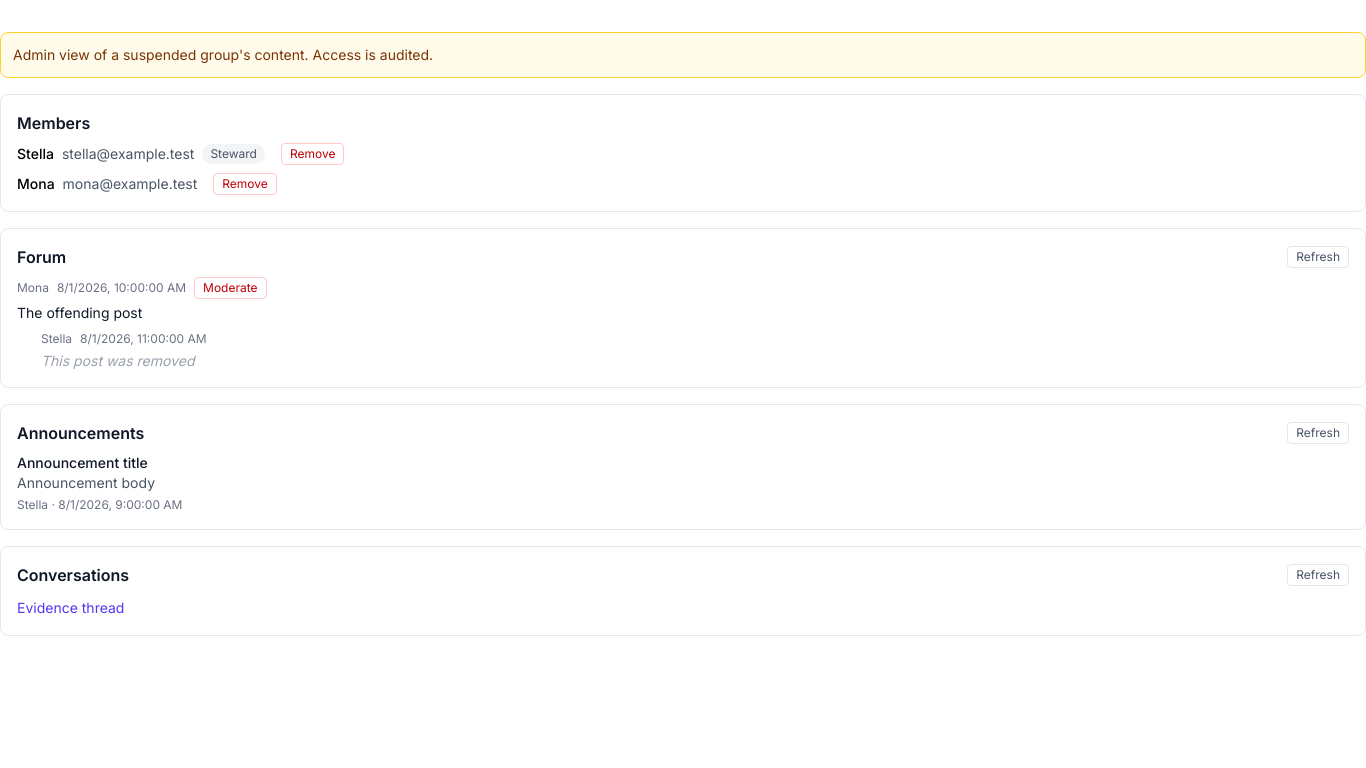
AdminSuspendedContentWing (FEAT-H041) › the Remove ceremony echoes display name AND email AND the group name, states the consequence, and requires a reason before confirm
Click the button with test id "remove-member-bbbb2222-2222-4222-8222-222222222222".
click(245, 184)  # box [213,173,277,195]
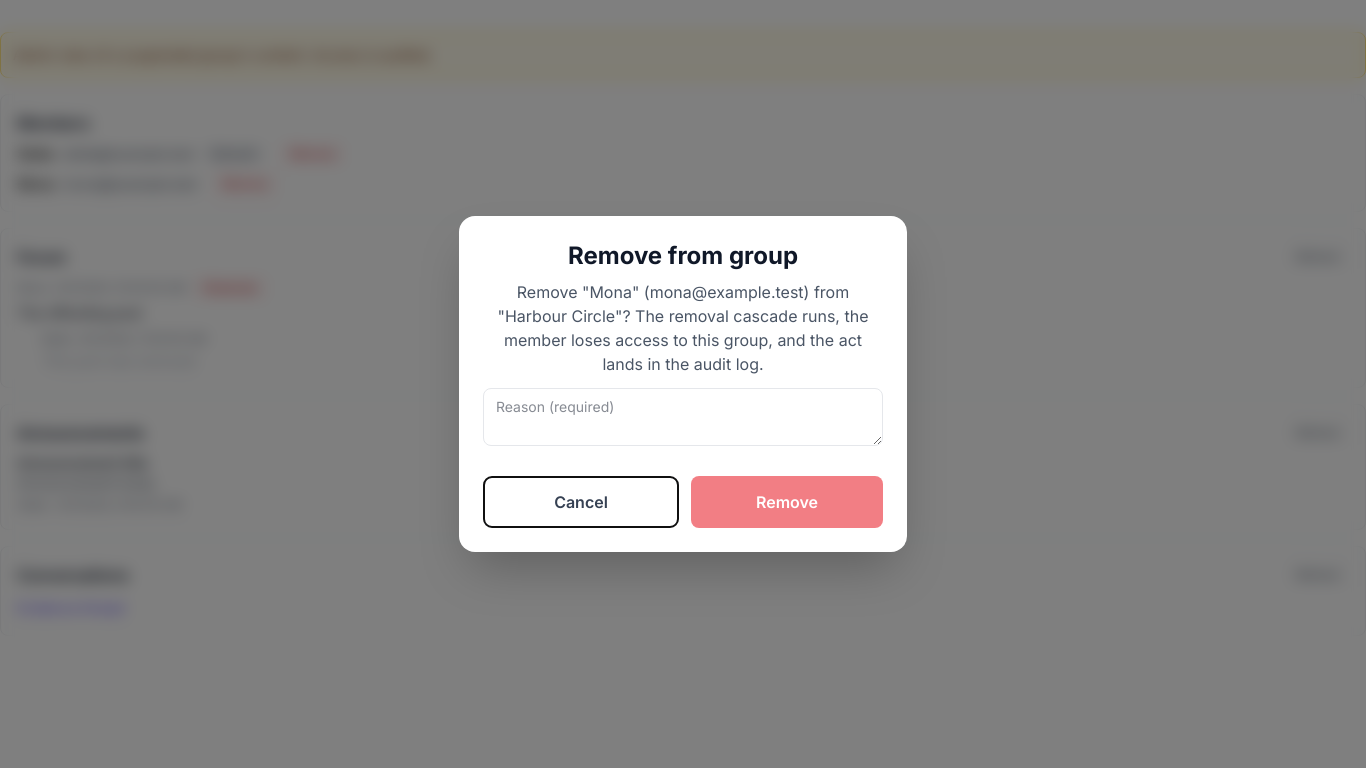
Check: the dialog with test id "confirm-modal" shows "Mona", box [498,282,849,326]
Check: the dialog with test id "confirm-modal" shows "mona@example.test", box [498,282,849,326]
Check: the dialog with test id "confirm-modal" shows "Harbour Circle", box [498,282,849,326]
Type "coordinated the bullying" into the text box with test id "ceremony-reason".
click(683, 417); type("coordinated the bullying")  # box [483,388,883,446]
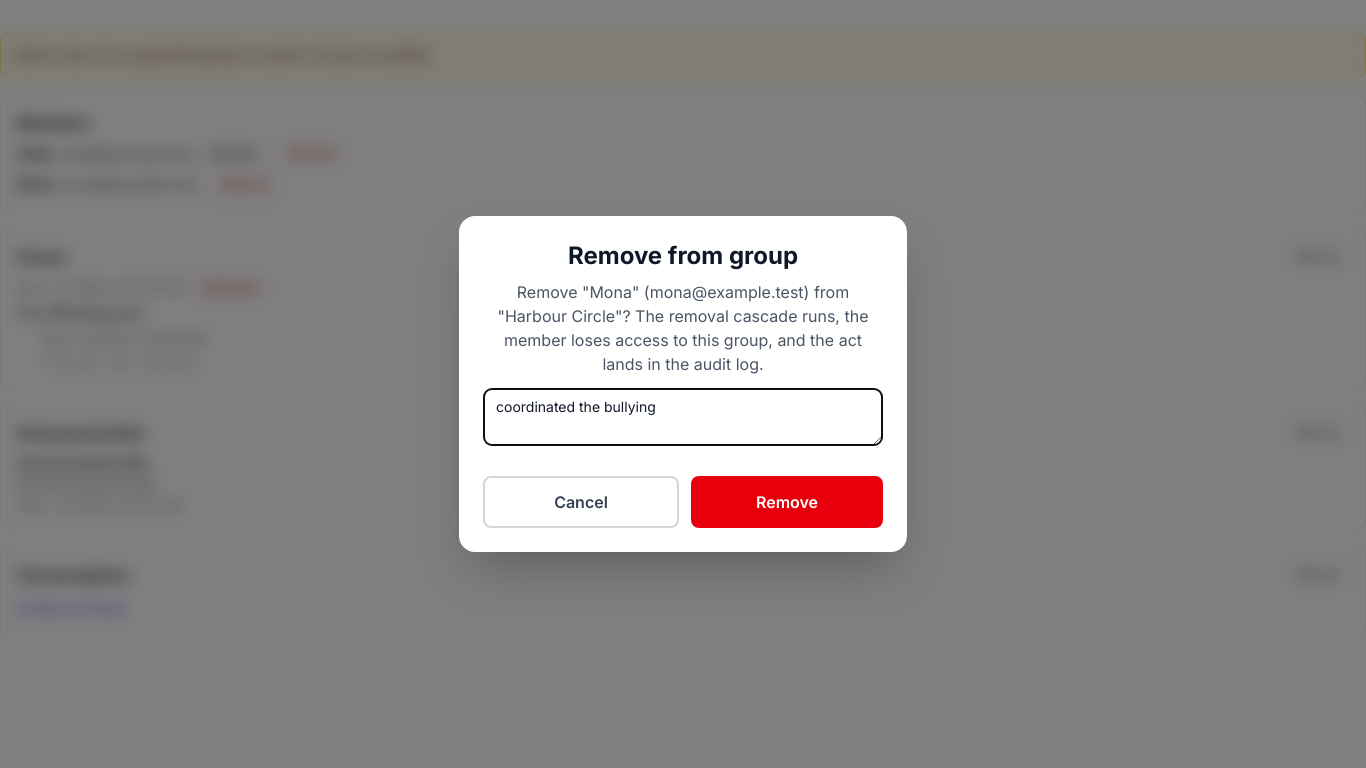
Check: the button with test id "confirm-modal-confirm" is enabled, box [691,476,883,528]
